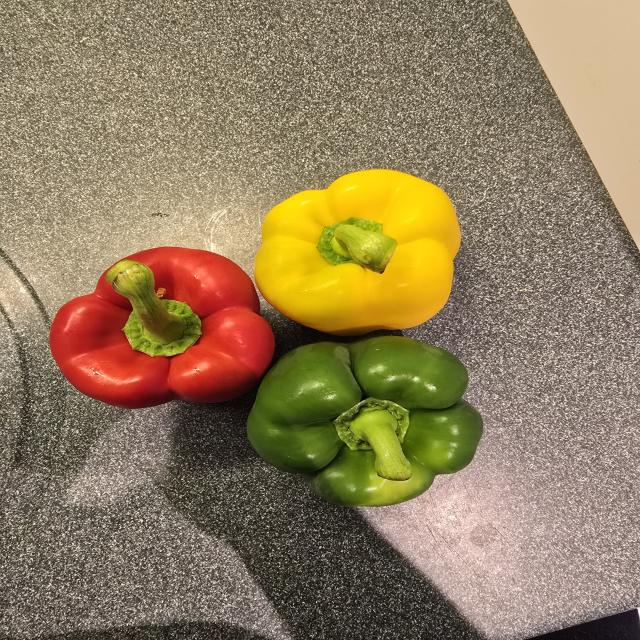Bell Pepper: (242, 334, 488, 509), (44, 244, 280, 413), (251, 164, 463, 338)
